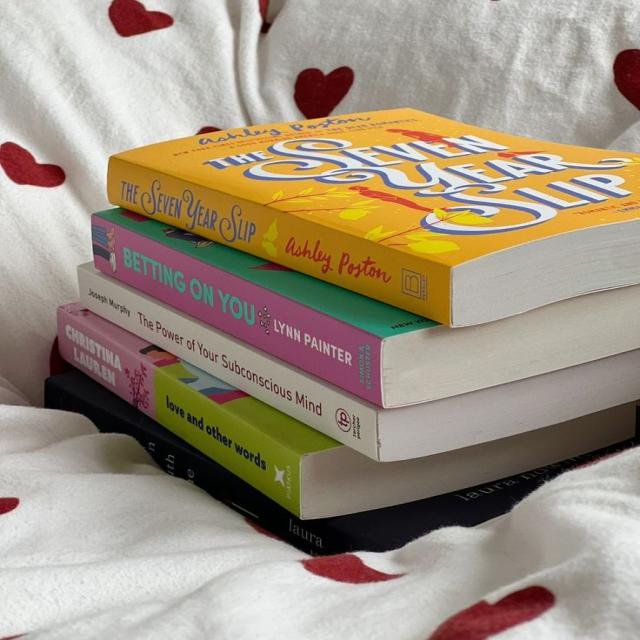book: (79, 263, 639, 460), (92, 208, 639, 407), (57, 303, 341, 517), (107, 157, 457, 326)
